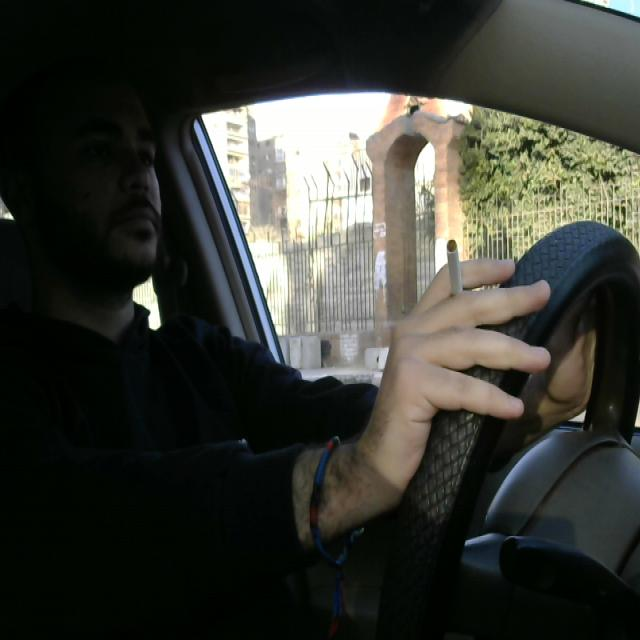smoking: (438, 229, 472, 341)
